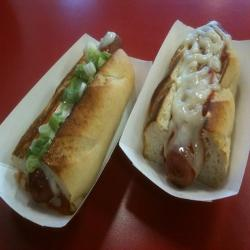hotdog: (4, 34, 130, 223), (122, 20, 247, 198)
